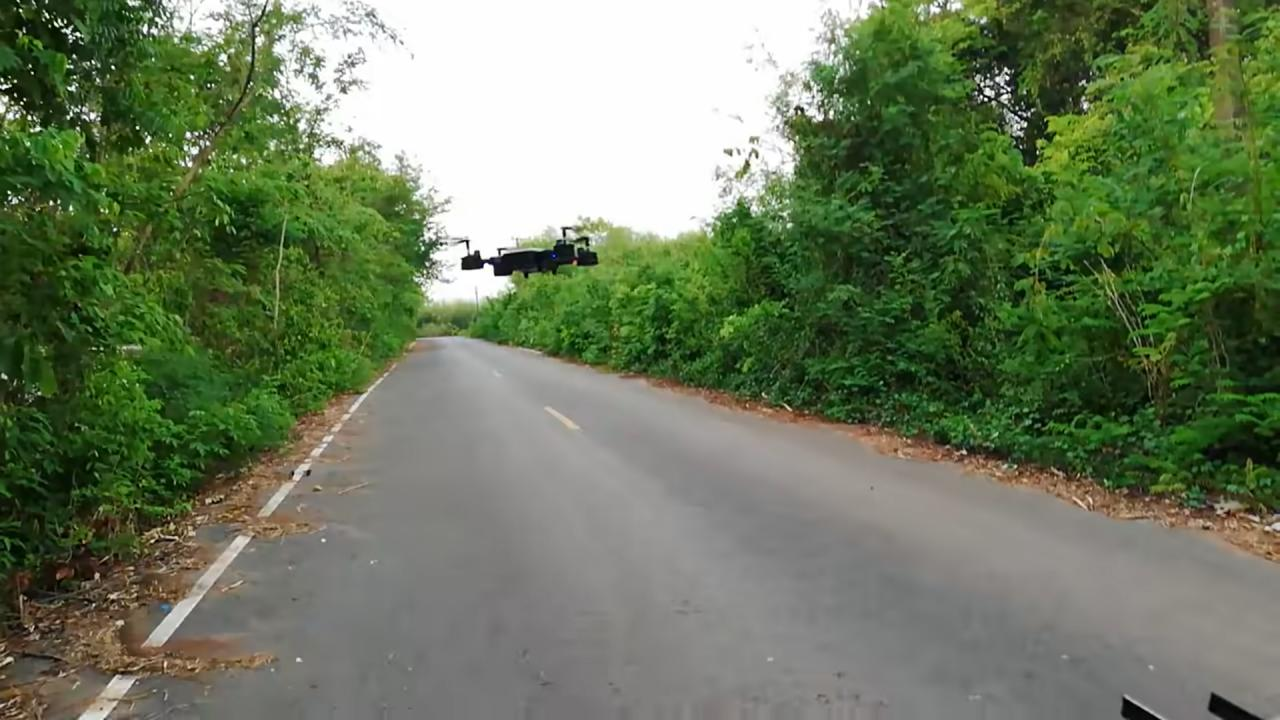Drone: (441, 217, 609, 287)
